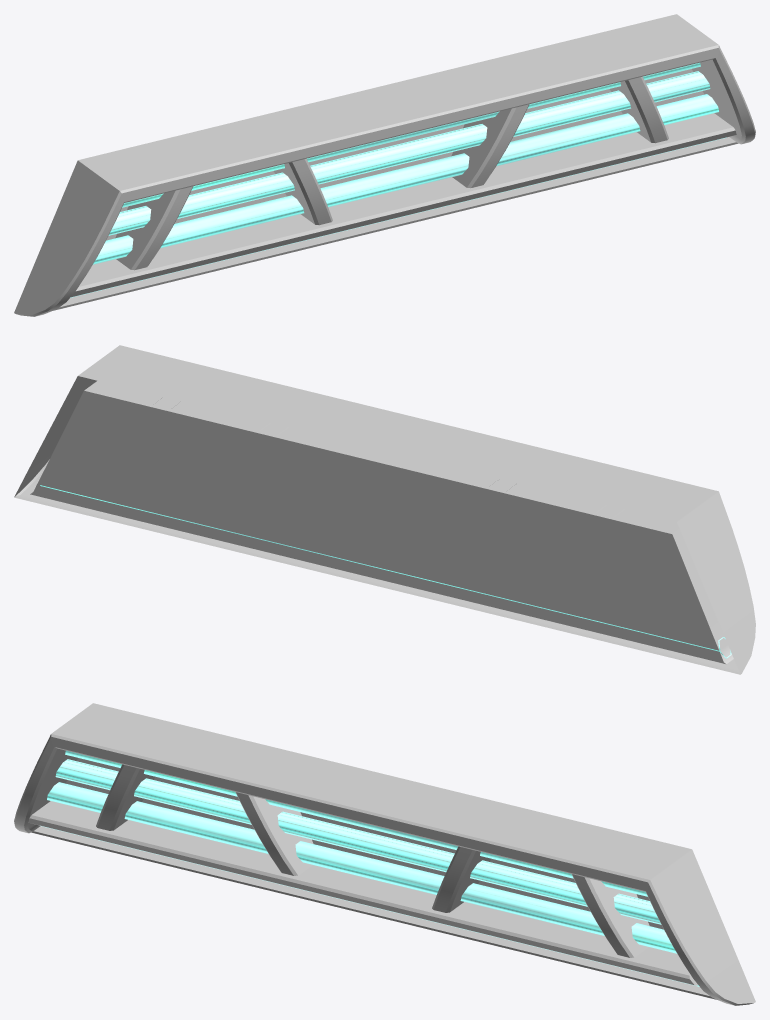
File: KB3D_CBP_Light_C.fbx
3 views of the same model, one above another, from view 1: azimuth 30°, elevation 25°; view 2: azimuth 150°, elevation 25°; view 3: azimuth 330°, elevation 25° (orthographic).
Visible parts, largest first — view 1: KB3D_CBP_Light_C_Main; view 2: KB3D_CBP_Light_C_Main; view 3: KB3D_CBP_Light_C_Main.
Part boxes in pixels (box(x1,y1,x2,y2)): KB3D_CBP_Light_C_Main: box(14, 14, 755, 316); KB3D_CBP_Light_C_Main: box(14, 345, 755, 674); KB3D_CBP_Light_C_Main: box(14, 703, 755, 1005).
Size of the model in its own units: 85.8 by 15.48 by 8.8.
